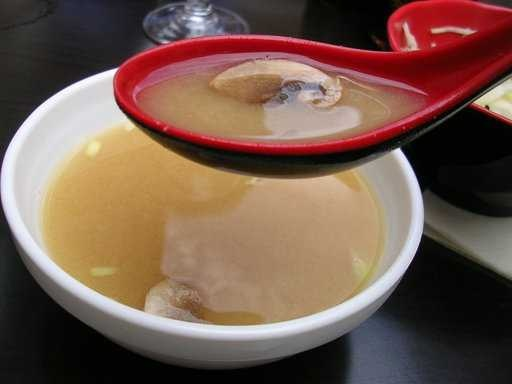soup: (18, 48, 393, 332)
